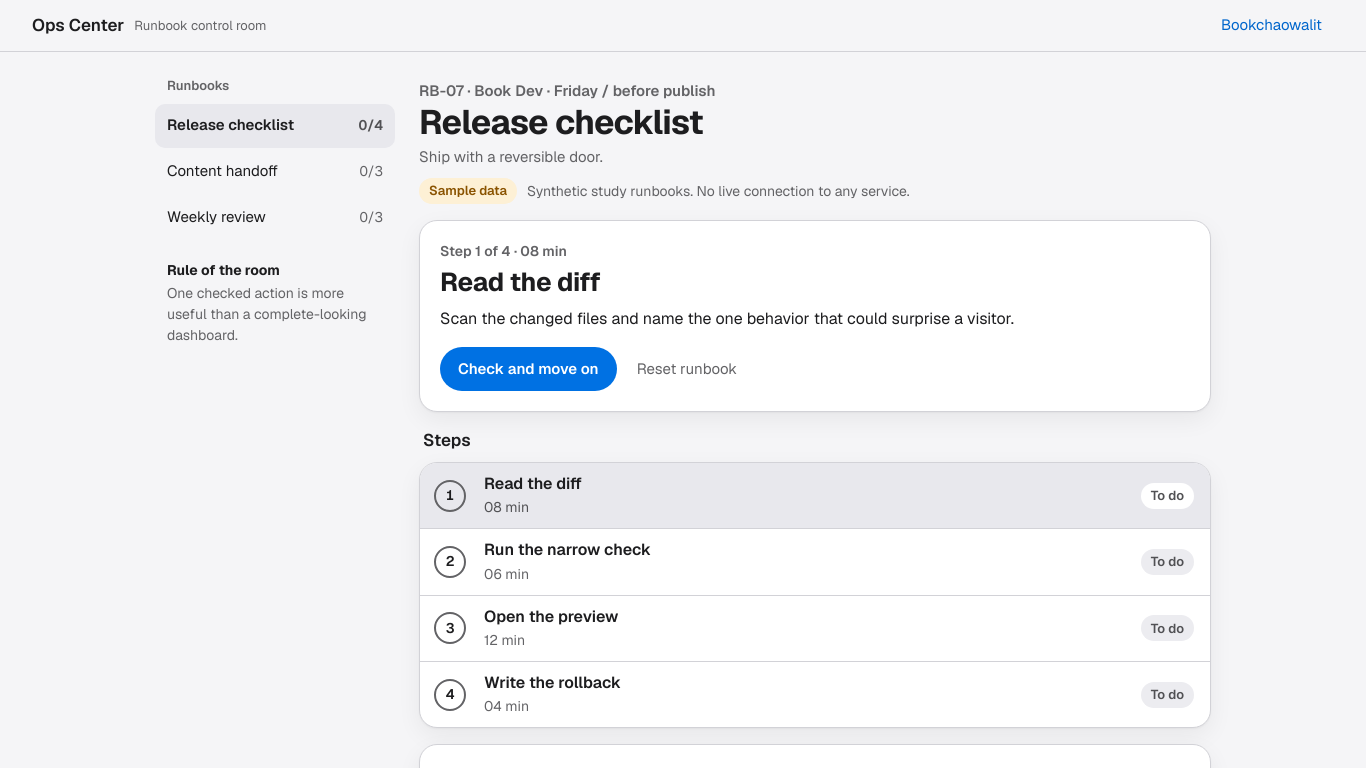
choosing a runbook › focusing a step row shows its instruction
The width and height of the screenshot is (1366, 768).
Click the button with class "as-step" that starts with "Open the preview" at coordinates (450, 628), box [420,595,1210,661]
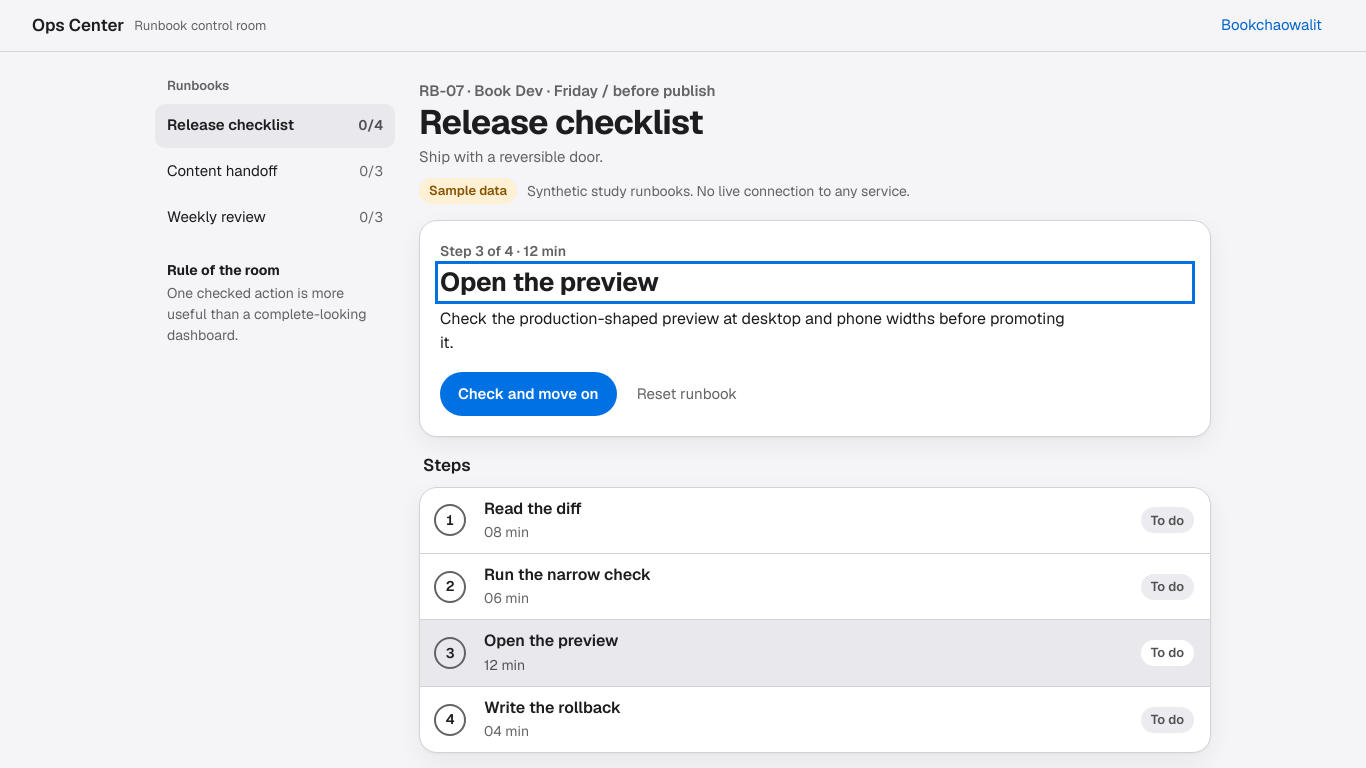
Expected: the button with class "as-button" reads "Check and move on", [440,372,617,416]
Expected: the heading with id "focus-title" reads "Open the preview", [440,265,659,299]
